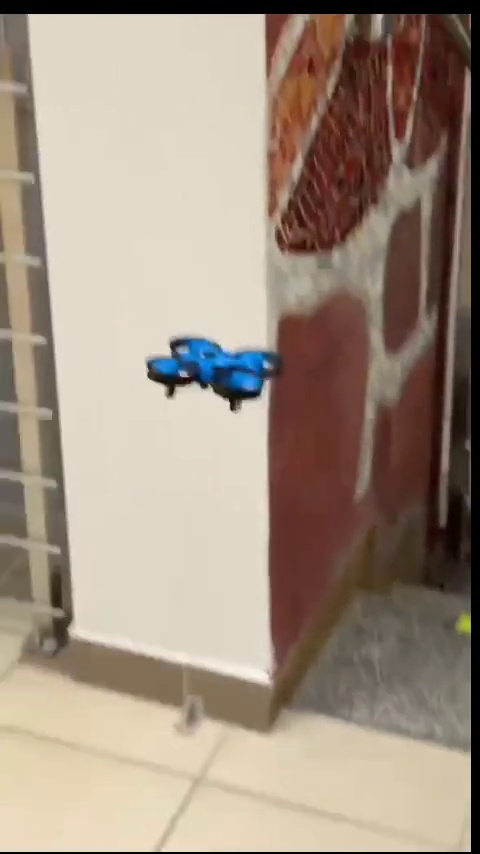drone: (144, 333, 294, 415)
